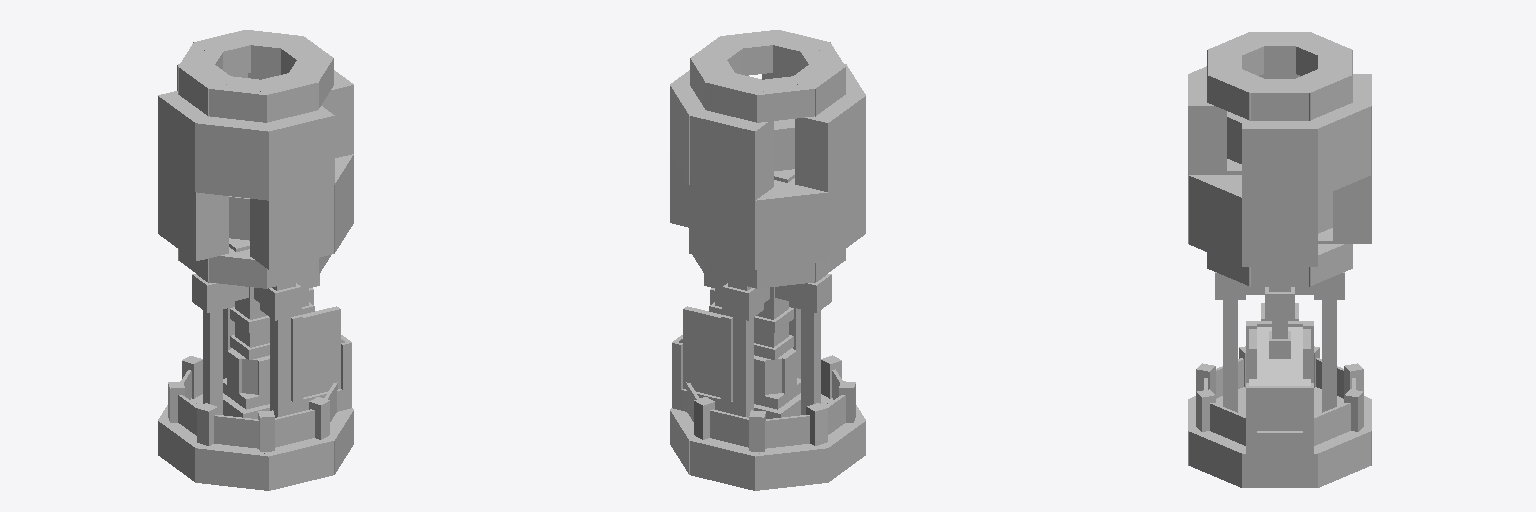
Rendered from generator_t2.obj.
3 renders of one model, left to right at view 1: azimuth 30°, elevation 25°; view 2: azimuth 150°, elevation 25°; view 3: azimuth 270°, elevation 25°, orthographic.
Parts seen in each view (by area): view 1: blq6, blq2b, blq3b, blq3, blq1b, baseSW, iboxN1, baseS, cb5b, cb4b, supporterS, supporterW (+27 smaller); view 2: blq4b, blq2, blq1b, blq1, baseNW, iboxS1, baseN, blq3, cb1b, cb2b, supporterN, supporterW (+28 smaller); view 3: blq6b, blq4, blq5, blq5b, blq3b, baseE, cb7b, blq1, baseNE, baseSE, iroof, cb3b (+25 smaller).
Boxes of the visible parts, x1=… form: blq6: x1=250, y1=185, x2=333, y2=269; blq2b: x1=195, y1=118, x2=268, y2=200; blq3b: x1=256, y1=106, x2=334, y2=200; blq3: x1=158, y1=165, x2=228, y2=260; blq1b: x1=158, y1=91, x2=218, y2=191; baseSW: x1=195, y1=444, x2=268, y2=490; iboxN1: x1=301, y1=306, x2=340, y2=397; baseS: x1=263, y1=436, x2=334, y2=490; cb5b: x1=250, y1=70, x2=318, y2=122; cb4b: x1=209, y1=76, x2=266, y2=122; supporterS: x1=270, y1=317, x2=290, y2=417; supporterW: x1=203, y1=310, x2=222, y2=414; blq4b: x1=689, y1=106, x2=773, y2=200; blq2: x1=755, y1=180, x2=828, y2=269; blq1b: x1=795, y1=91, x2=865, y2=191; blq1: x1=689, y1=185, x2=754, y2=269; baseNW: x1=755, y1=444, x2=828, y2=490; iboxS1: x1=683, y1=306, x2=722, y2=397; baseN: x1=689, y1=436, x2=760, y2=490; blq3: x1=799, y1=165, x2=865, y2=260; cb1b: x1=705, y1=70, x2=773, y2=122; cb2b: x1=757, y1=76, x2=814, y2=122; supporterN: x1=733, y1=317, x2=753, y2=417; supporterW: x1=801, y1=310, x2=820, y2=414; blq6b: x1=1242, y1=117, x2=1317, y2=197; blq4: x1=1242, y1=198, x2=1317, y2=266; blq5: x1=1189, y1=175, x2=1241, y2=266; blq5b: x1=1318, y1=106, x2=1370, y2=197; blq3b: x1=1188, y1=74, x2=1226, y2=174; baseE: x1=1242, y1=445, x2=1317, y2=487; cb7b: x1=1249, y1=79, x2=1310, y2=120; blq1: x1=1333, y1=175, x2=1371, y2=243; baseNE: x1=1318, y1=431, x2=1370, y2=487; baseSE: x1=1189, y1=431, x2=1241, y2=487; iroof: x1=1249, y1=327, x2=1310, y2=385; cb3b: x1=1249, y1=32, x2=1310, y2=73.
Size of the model in its own units: 3 by 7 by 3.